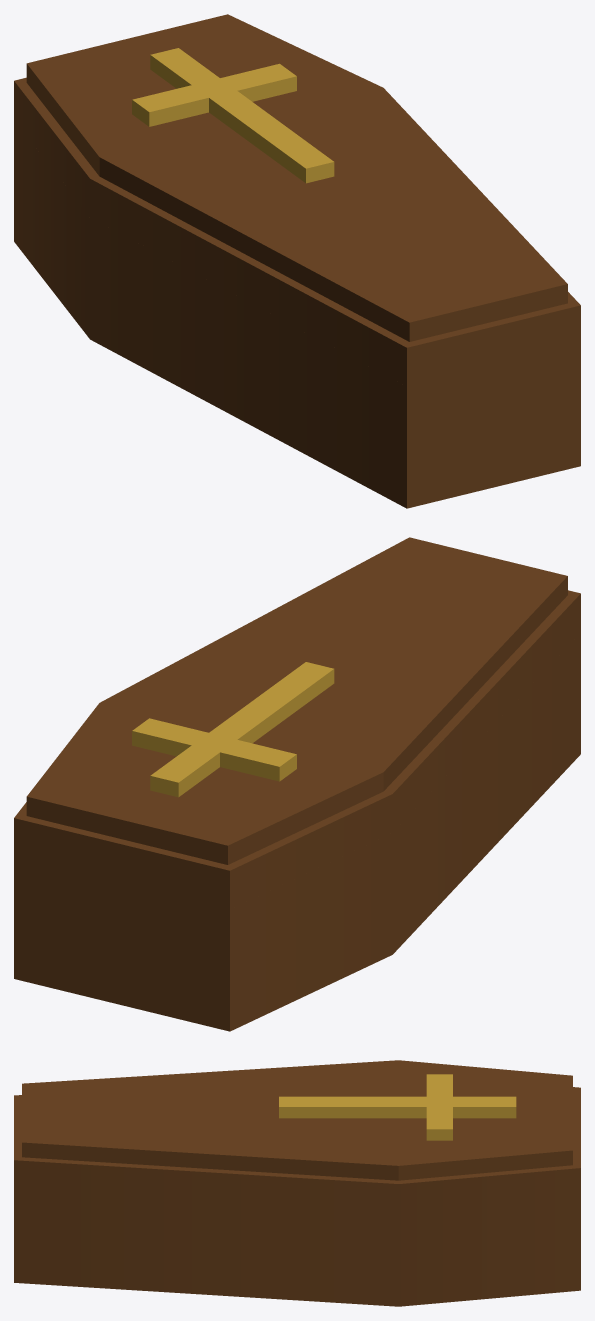
The model's file is Coffin2.gltf.
3 renders of one model, top to bottom at view 1: azimuth 30°, elevation 25°; view 2: azimuth 150°, elevation 25°; view 3: azimuth 270°, elevation 25°, orthographic. The views are drawn at different scales.
Parts seen in each view (by area): view 1: Coffin2; view 2: Coffin2; view 3: Coffin2.
Boxes of the visible parts, x1,y1,x2,y2 form: Coffin2: (14,14,580,508); Coffin2: (14,537,580,1031); Coffin2: (14,1060,580,1306).
Bounding box in the file's own units: 0.5452 × 0.3356 × 1.16.
